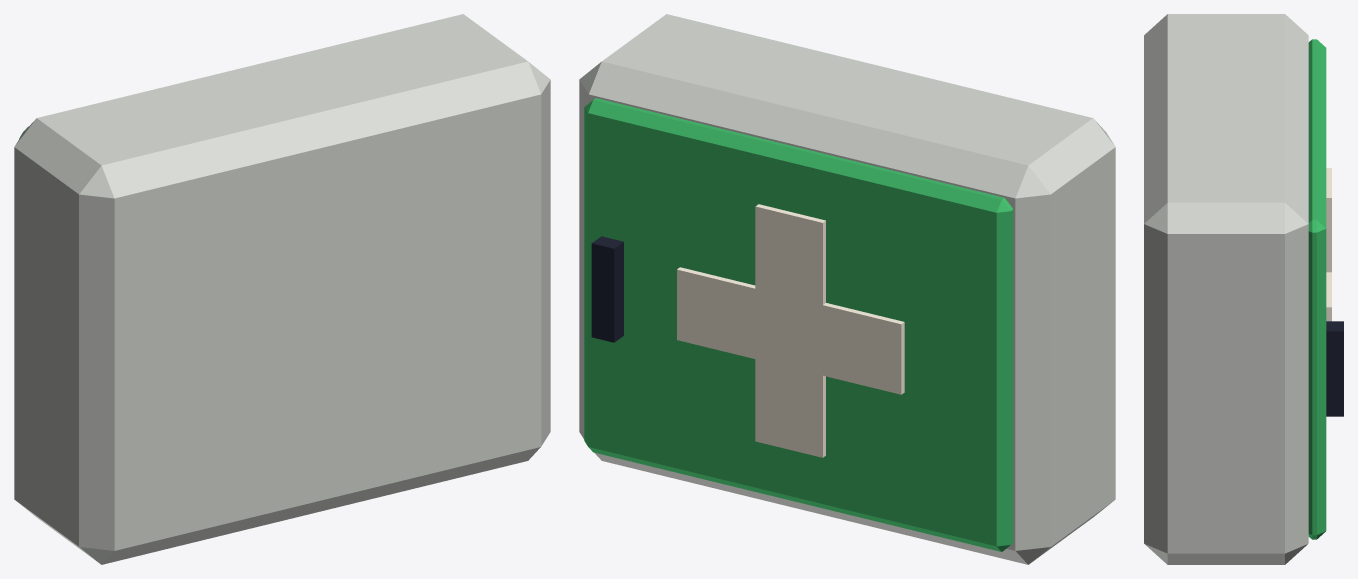
The model's file is sm_env_depot_first_aid.glb.
3 renders of one model, left to right at view 1: azimuth 30°, elevation 25°; view 2: azimuth 150°, elevation 25°; view 3: azimuth 270°, elevation 25°, orthographic. The views are drawn at different scales.
Parts seen in each view (by area): view 1: Box; view 2: Door, Box, CrossH, CrossV, Handle; view 3: Box, Door, Handle, CrossV, CrossH.
Boxes of the visible parts, x1=… form: Box: x1=14, y1=14, x2=550, y2=564; Door: x1=584, y1=98, x2=1013, y2=551; Box: x1=579, y1=14, x2=1115, y2=564; CrossH: x1=677, y1=267, x2=904, y2=394; CrossV: x1=755, y1=204, x2=825, y2=457; Handle: x1=591, y1=236, x2=623, y2=342; Box: x1=1144, y1=14, x2=1308, y2=564; Door: x1=1308, y1=39, x2=1326, y2=539; Handle: x1=1326, y1=321, x2=1343, y2=416; CrossV: x1=1326, y1=168, x2=1331, y2=272; CrossH: x1=1326, y1=272, x2=1331, y2=321.
Bounding box in the file's own units: 0.42 × 0.34 × 0.17.
